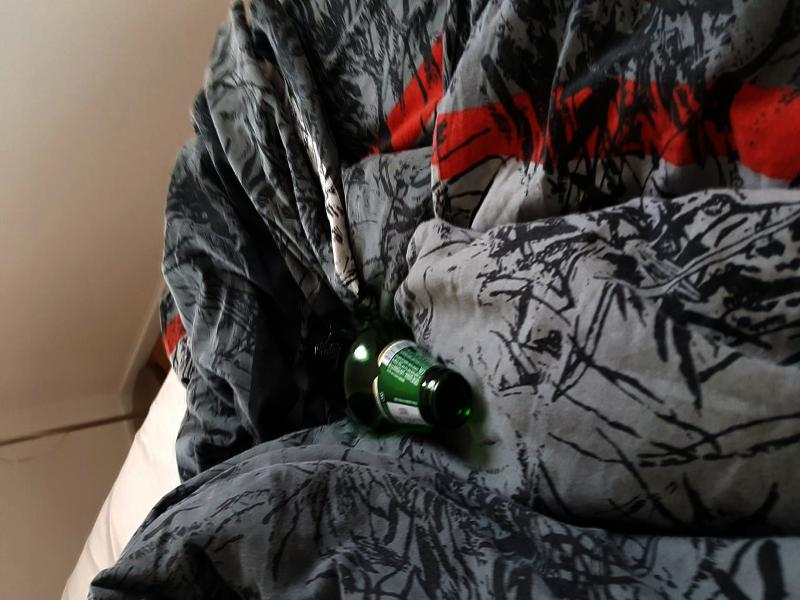Beer: (303, 311, 472, 434)
